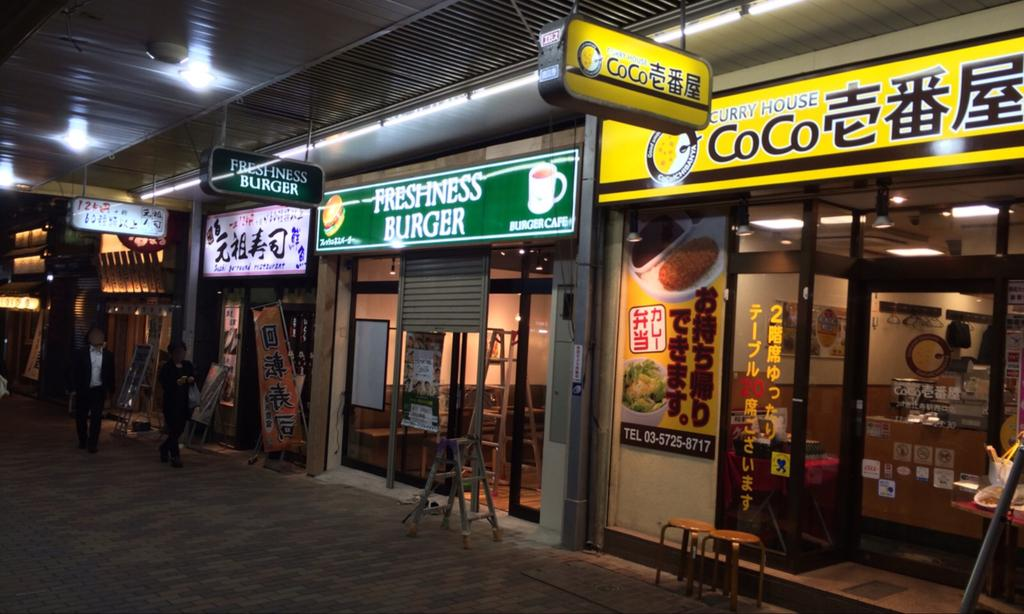Chair: (654, 506, 713, 594)
